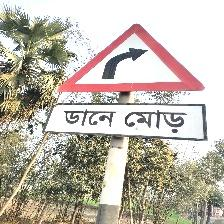Right-turn: (51, 23, 210, 143)
